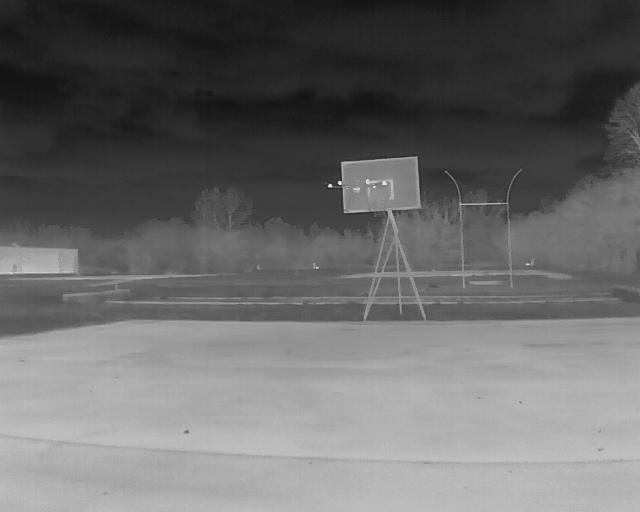drone: (326, 170, 401, 228)
